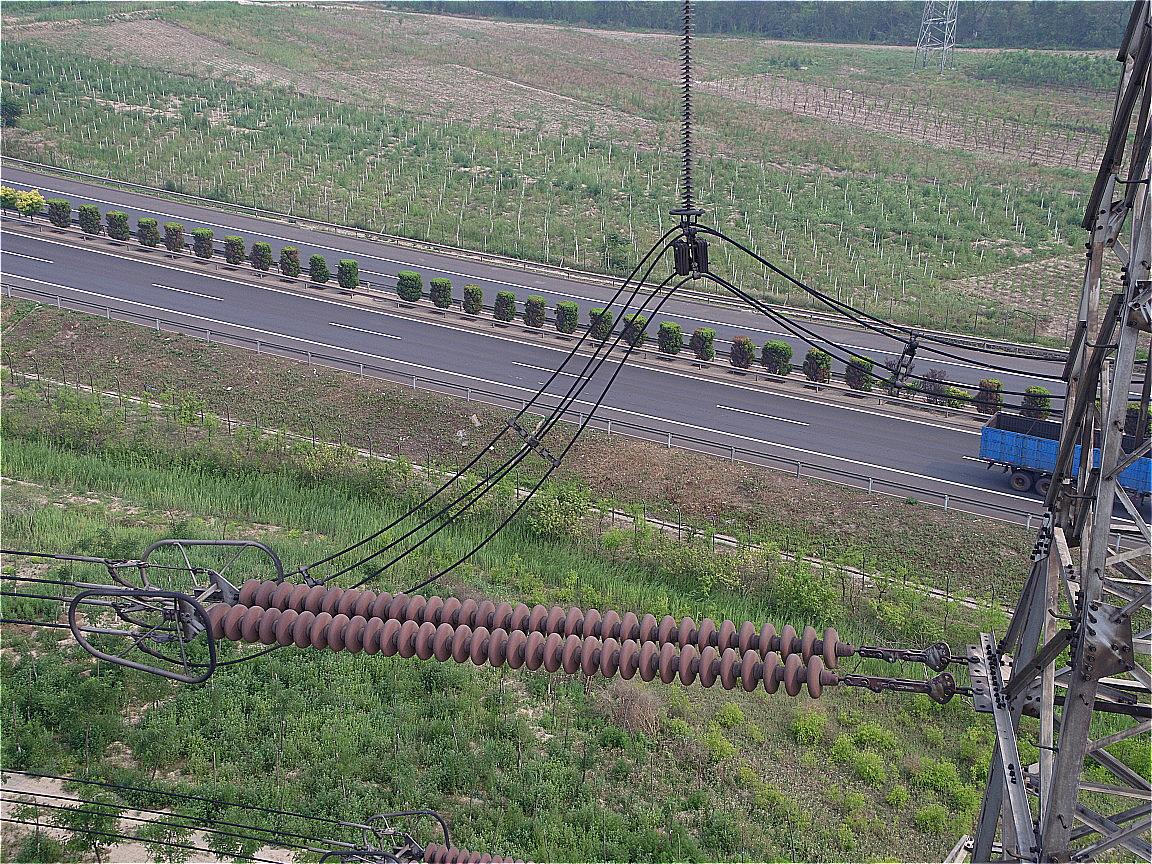insultor1: (209, 578, 843, 697)
